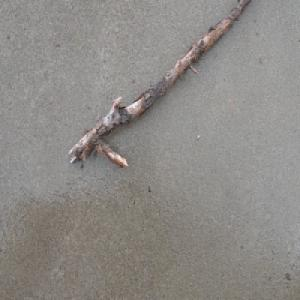Wood: (66, 0, 253, 171)
